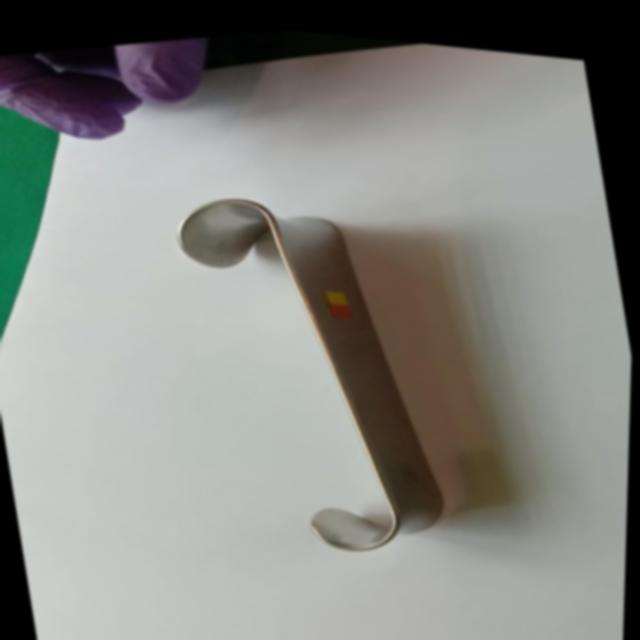CheekRetractor: (157, 152, 464, 579)
